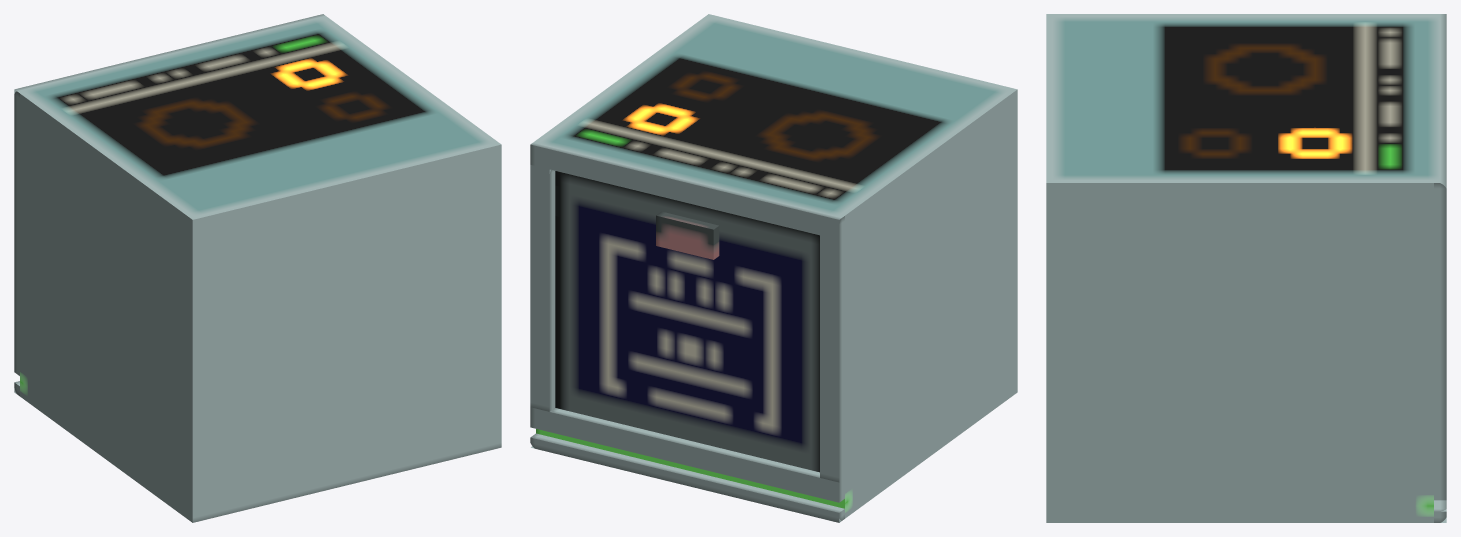
Rendered from kuchnia_szafki_02_piekar.dae.
The picture shows the model from 3 angles, left to right: view 1: azimuth 30°, elevation 25°; view 2: azimuth 150°, elevation 25°; view 3: azimuth 270°, elevation 25°; orthographic projection. The views are drawn at different scales.
Visible parts, largest first — view 1: Content; view 2: Content; view 3: Content.
Part boxes in pixels (bbox=[...]): Content: bbox=[14, 14, 501, 522]; Content: bbox=[530, 14, 1017, 522]; Content: bbox=[1046, 14, 1446, 522].
Bounding box in the file's own units: 32 × 30 × 32.
1 material, 1 textured.
